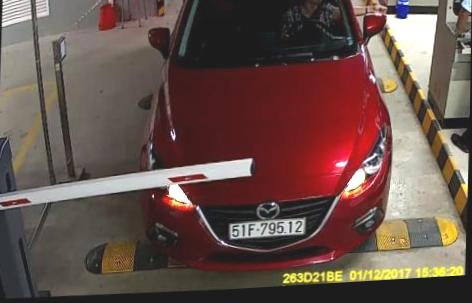License_Plate: (220, 213, 311, 245)
